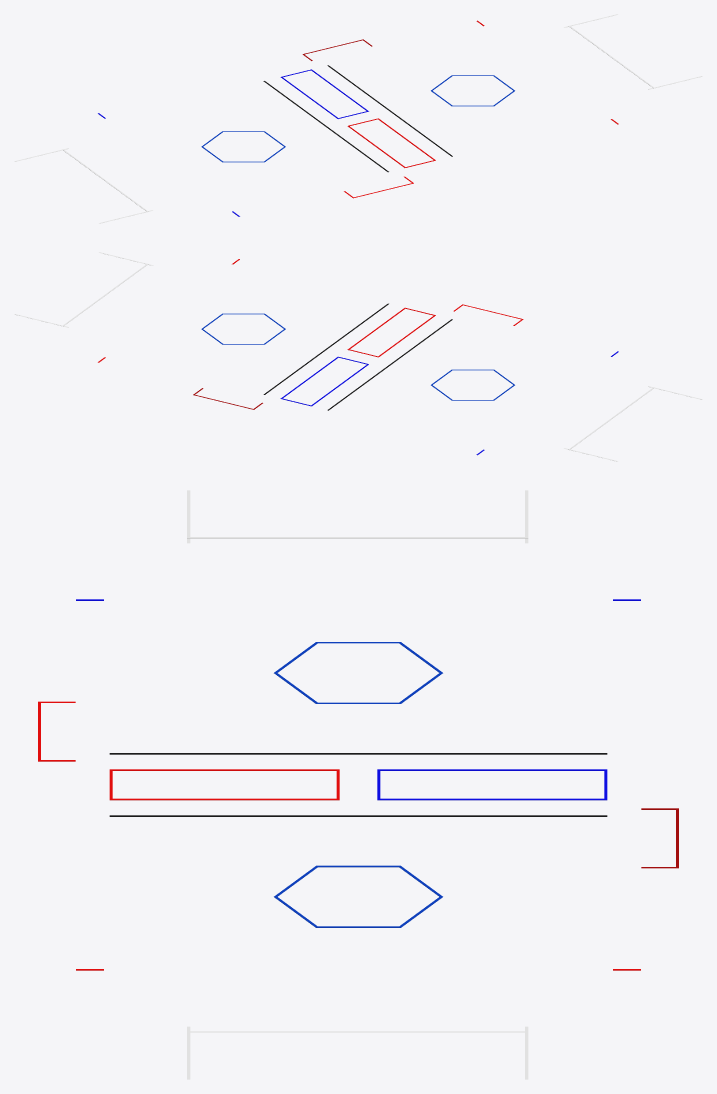
File: Tape.fbx
3 views of the same model, one above another, from view 1: azimuth 30°, elevation 25°; view 2: azimuth 150°, elevation 25°; view 3: azimuth 270°, elevation 25° (orthographic). The views are drawn at different scales.
Visible parts, largest first — view 1: no part large enough to name; view 2: no part large enough to name; view 3: Solid1.014, Solid1.015, Solid1.017, Solid1.016.
Boxes of the visible parts, box(x1,y1,x2,y2) form: Solid1.014: box(109, 753, 607, 754); Solid1.015: box(109, 815, 607, 816); Solid1.017: box(274, 865, 442, 927); Solid1.016: box(274, 642, 442, 703).
Bounding box in the file's own units: 2256 × 0.8256 × 1037.
